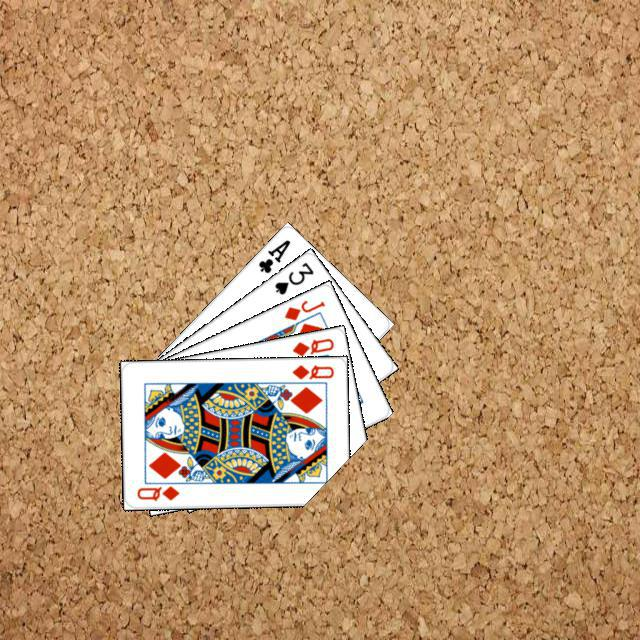3s: (269, 257, 315, 297)
Ac: (253, 234, 292, 275)
Jd: (279, 295, 327, 322)
Qd: (287, 333, 336, 358), (132, 481, 181, 503), (287, 360, 335, 381)
